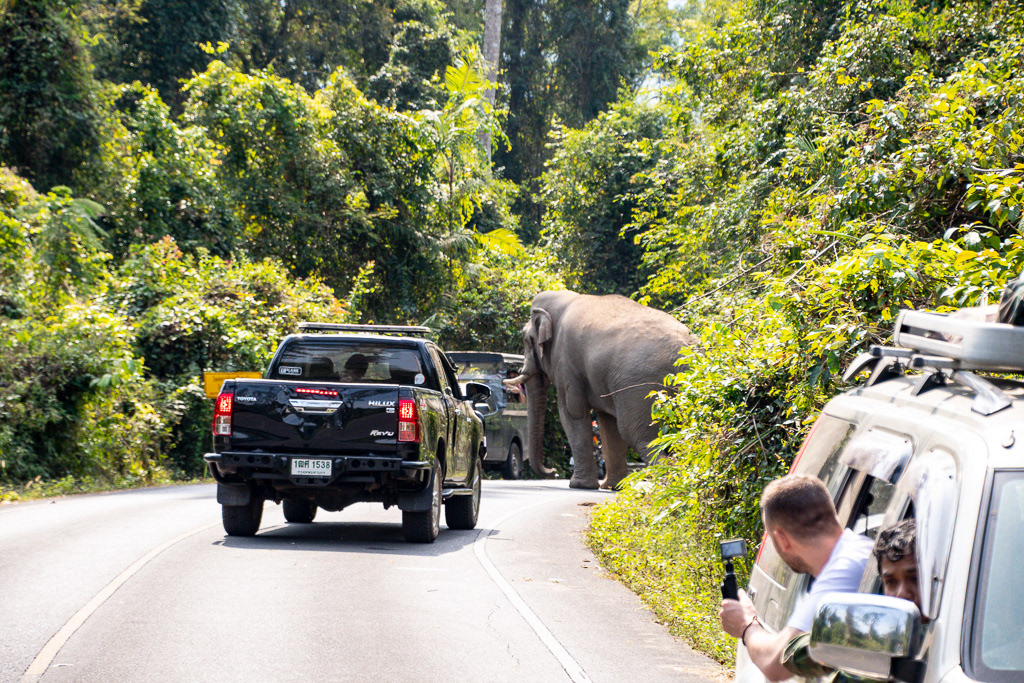Elephant: (516, 287, 680, 497)
Person: (744, 480, 923, 594)
Vehicle: (204, 316, 492, 548)
